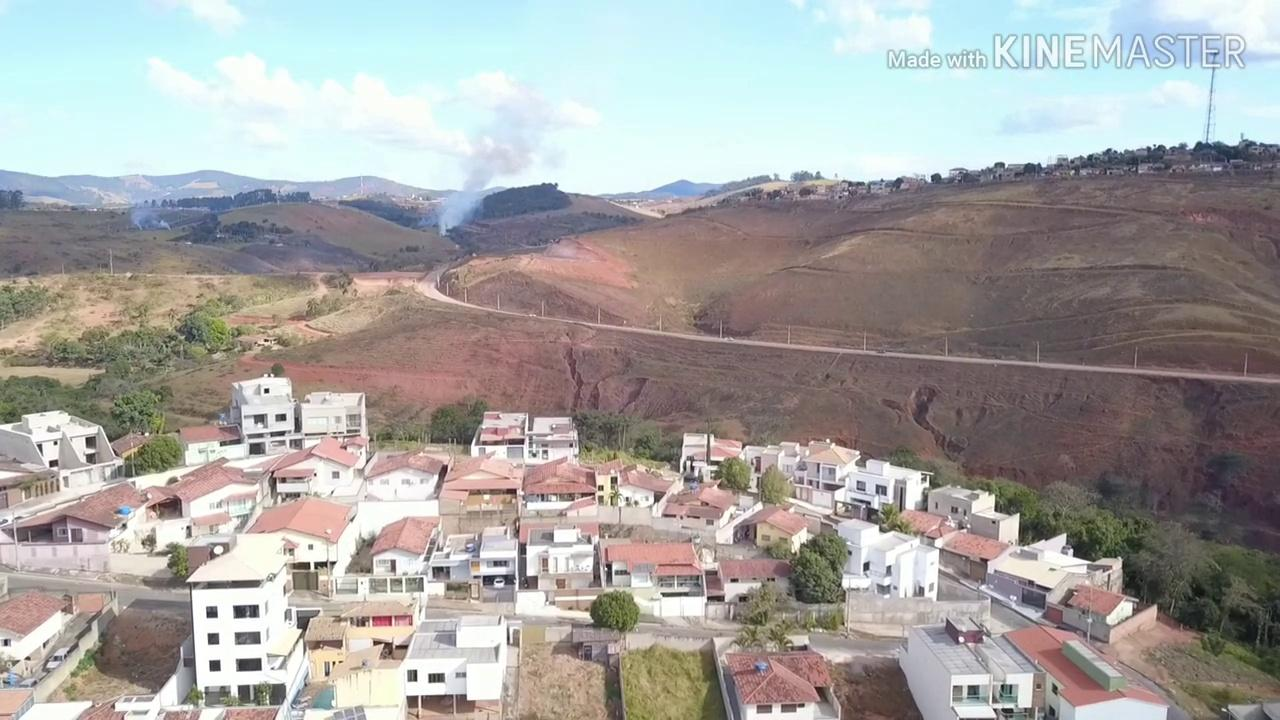smoke: (444, 142, 510, 212)
